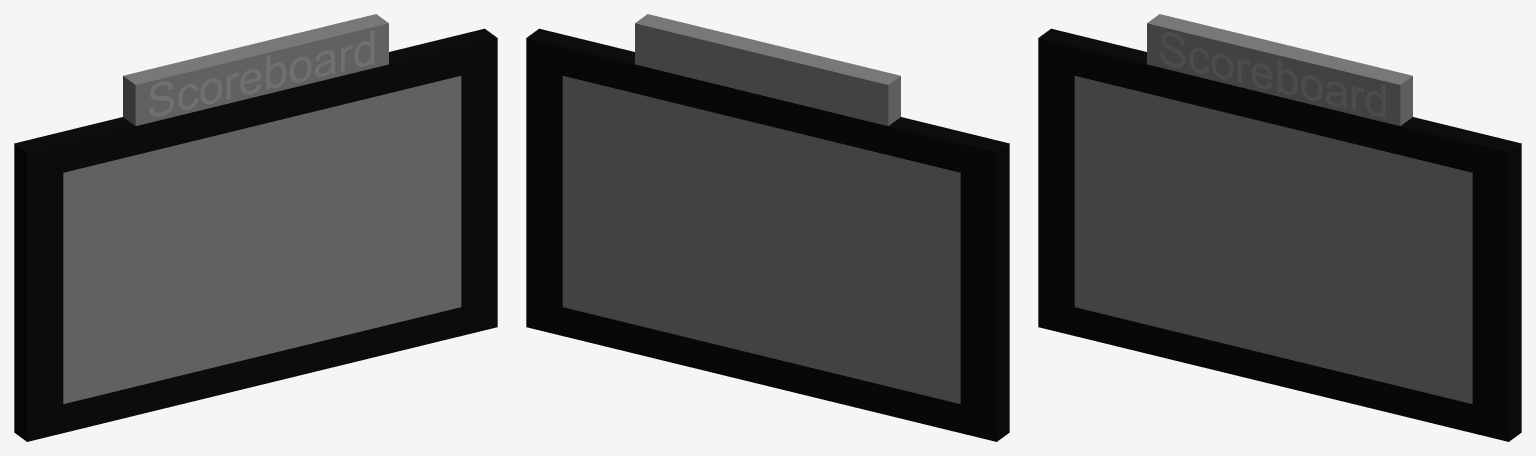
File: ScoreBoard.FBX
The picture shows the model from 3 angles, left to right: view 1: azimuth 30°, elevation 25°; view 2: azimuth 150°, elevation 25°; view 3: azimuth 330°, elevation 25°; orthographic projection.
Parts seen in each view (by area): view 1: Box001, Text001; view 2: Box001; view 3: Box001, Text001.
Boxes of the visible parts, bbox=[...] form: Box001: bbox=[14, 14, 497, 441]; Text001: bbox=[148, 30, 374, 116]; Box001: bbox=[526, 14, 1009, 441]; Box001: bbox=[1038, 14, 1521, 441]; Text001: bbox=[1160, 32, 1385, 118].
Bounding box in the file's own units: 23.95 × 16.07 × 1.12.
Materials: 3 (2 with a texture image).
